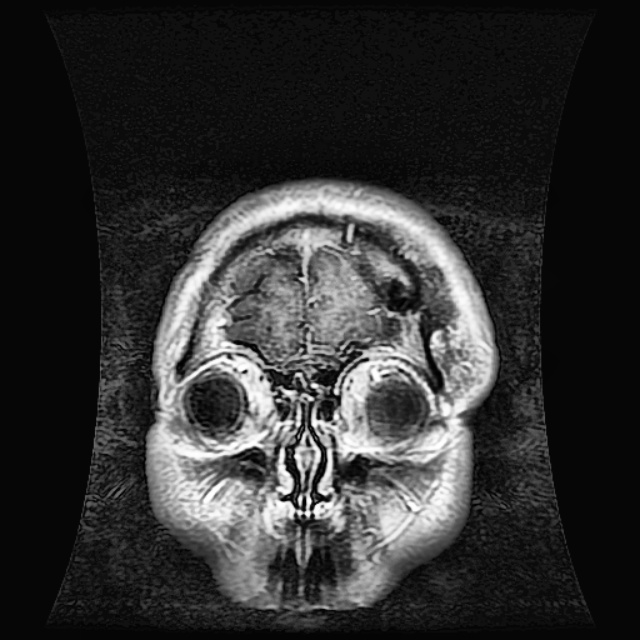Glioma: (368, 278, 419, 317)
